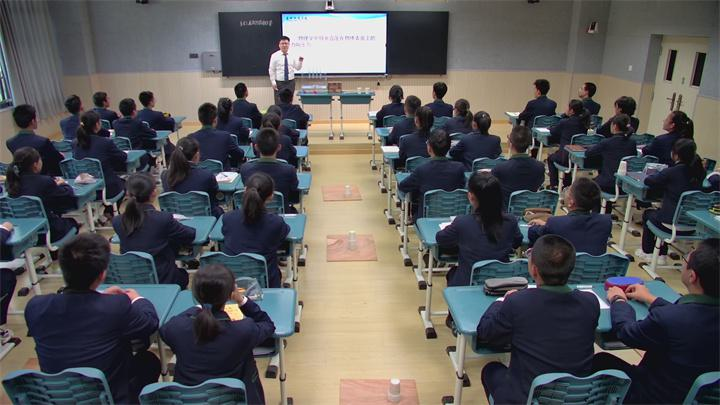listen: (25, 234, 153, 379), (476, 236, 599, 364), (615, 238, 716, 373), (162, 264, 266, 373), (438, 168, 520, 267), (211, 171, 295, 255), (115, 171, 194, 253), (528, 177, 610, 253), (2, 150, 76, 214), (649, 136, 703, 207), (403, 128, 460, 195), (238, 130, 298, 190), (495, 121, 545, 189), (584, 115, 645, 163), (160, 134, 214, 186), (186, 103, 238, 155), (3, 94, 54, 146), (76, 114, 124, 167), (640, 108, 703, 146), (517, 76, 560, 129), (454, 110, 497, 156), (399, 108, 441, 155), (130, 89, 173, 127), (375, 77, 408, 121), (601, 90, 643, 123), (268, 88, 306, 120), (234, 82, 260, 120), (84, 88, 124, 112), (427, 79, 451, 116)
